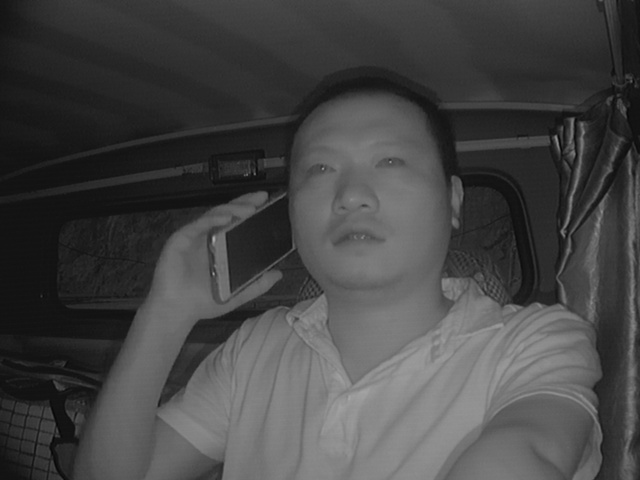hand: (163, 189, 284, 309)
